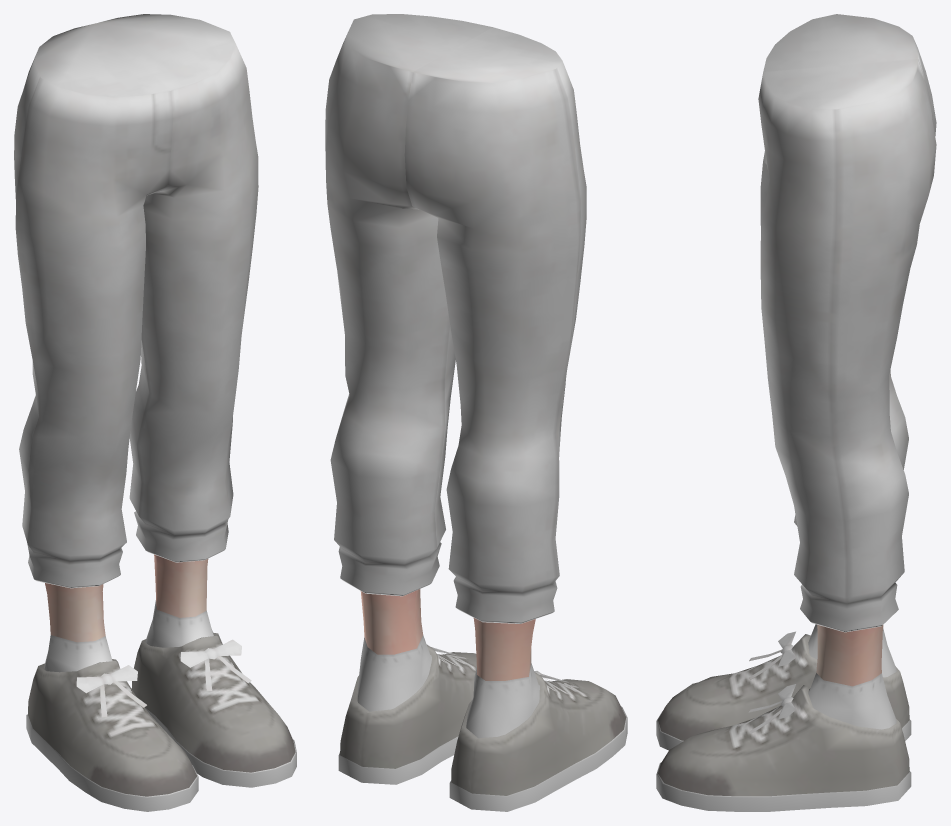
Rendered from tr0770_00_lwb00.gltf.
The picture shows the model from 3 angles, left to right: view 1: azimuth 30°, elevation 25°; view 2: azimuth 150°, elevation 25°; view 3: azimuth 270°, elevation 25°; orthographic projection. The views are drawn at different scales.
Parts seen in each view (by area): view 1: lwb00_lowerbody_mesh_shape:lowerbody00, lwb00_shoes_mesh_shape:lowerbody00, lwb00_lowerskin_mesh_shape:lowerbody00_skin; view 2: lwb00_lowerbody_mesh_shape:lowerbody00, lwb00_shoes_mesh_shape:lowerbody00, lwb00_lowerskin_mesh_shape:lowerbody00_skin; view 3: lwb00_lowerbody_mesh_shape:lowerbody00, lwb00_shoes_mesh_shape:lowerbody00, lwb00_lowerskin_mesh_shape:lowerbody00_skin.
Boxes of the visible parts, x1,y1,x2,y2 form: lwb00_lowerbody_mesh_shape:lowerbody00: (14, 14, 258, 588); lwb00_shoes_mesh_shape:lowerbody00: (26, 600, 296, 811); lwb00_lowerskin_mesh_shape:lowerbody00_skin: (45, 554, 208, 642); lwb00_lowerbody_mesh_shape:lowerbody00: (325, 14, 586, 623); lwb00_shoes_mesh_shape:lowerbody00: (338, 635, 627, 811); lwb00_lowerskin_mesh_shape:lowerbody00_skin: (360, 589, 535, 680); lwb00_lowerbody_mesh_shape:lowerbody00: (758, 14, 936, 632); lwb00_shoes_mesh_shape:lowerbody00: (656, 624, 911, 811); lwb00_lowerskin_mesh_shape:lowerbody00_skin: (816, 625, 883, 686).
Size of what is drawn, in the model's own units: 0.3453 by 0.9523 by 0.3437.
2 materials, 2 textured.
